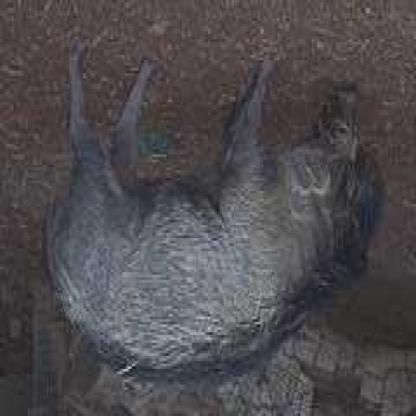boar: (50, 74, 415, 414)
